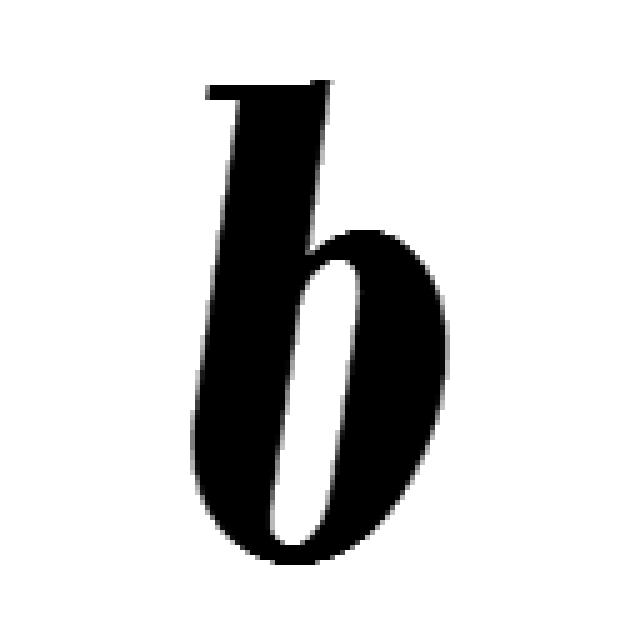B: (190, 80, 445, 565)
